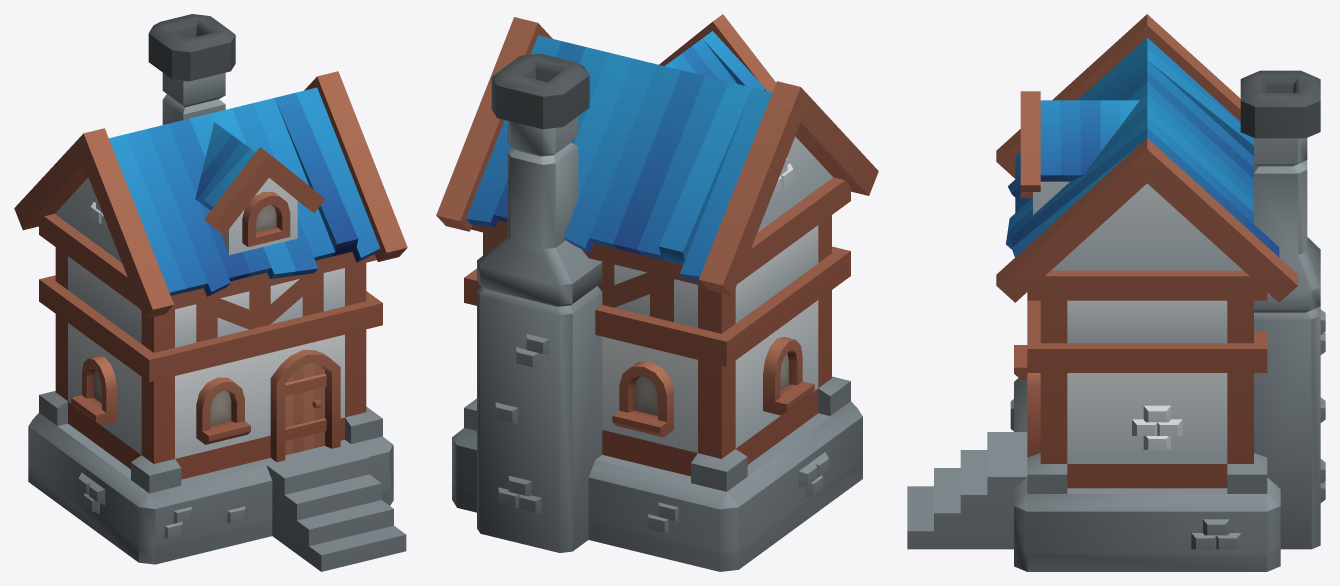
The model's file is building.glb.
3 views of the same model, side by side, from view 1: azimuth 30°, elevation 25°; view 2: azimuth 150°, elevation 25°; view 3: azimuth 270°, elevation 25° (orthographic). The views are drawn at different scales.
Parts seen in each view (by area): view 1: building_home_B_blue; view 2: building_home_B_blue; view 3: building_home_B_blue.
Part boxes in pixels (box(x1,y1,x2,y2)): building_home_B_blue: box(14, 14, 407, 571); building_home_B_blue: box(436, 14, 878, 571); building_home_B_blue: box(907, 14, 1325, 571).
Bounding box in the file's own units: 0.8749 × 1.28 × 1.1.
1 material, 1 textured.
